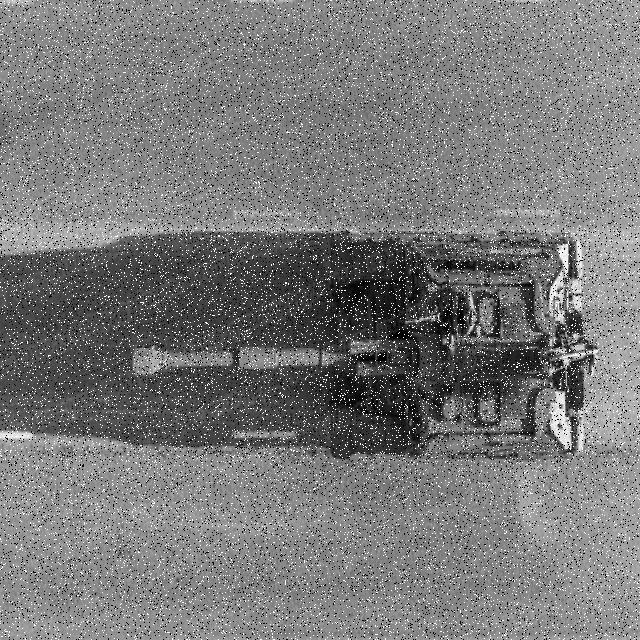MIL_MBT: (129, 228, 599, 460)
